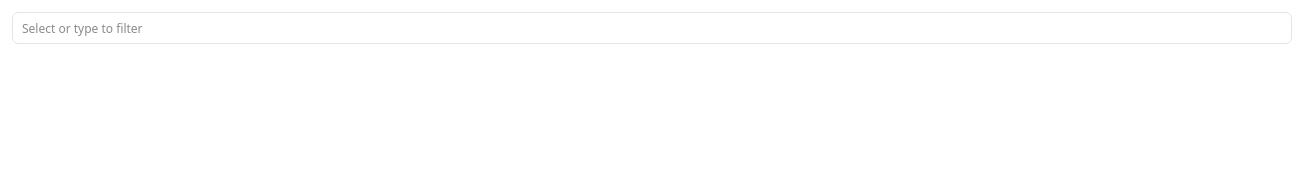
Test: the whole list is reachable without typing › filters on a surname, not only a prefix
In the dropdown: (652, 28) 12,12 -> 1292,44, type "reyes"
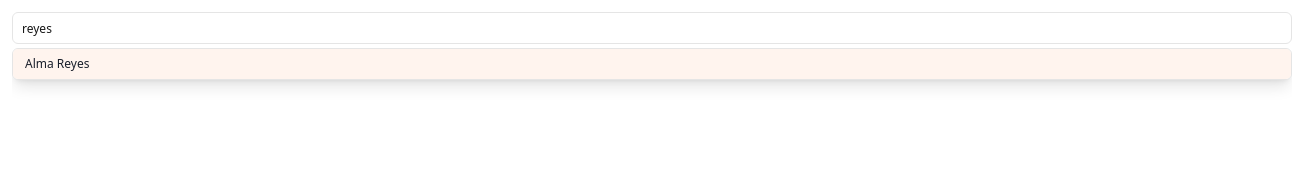
Result: the options read "Alma Reyes", in this order at 13,49 -> 1291,79
